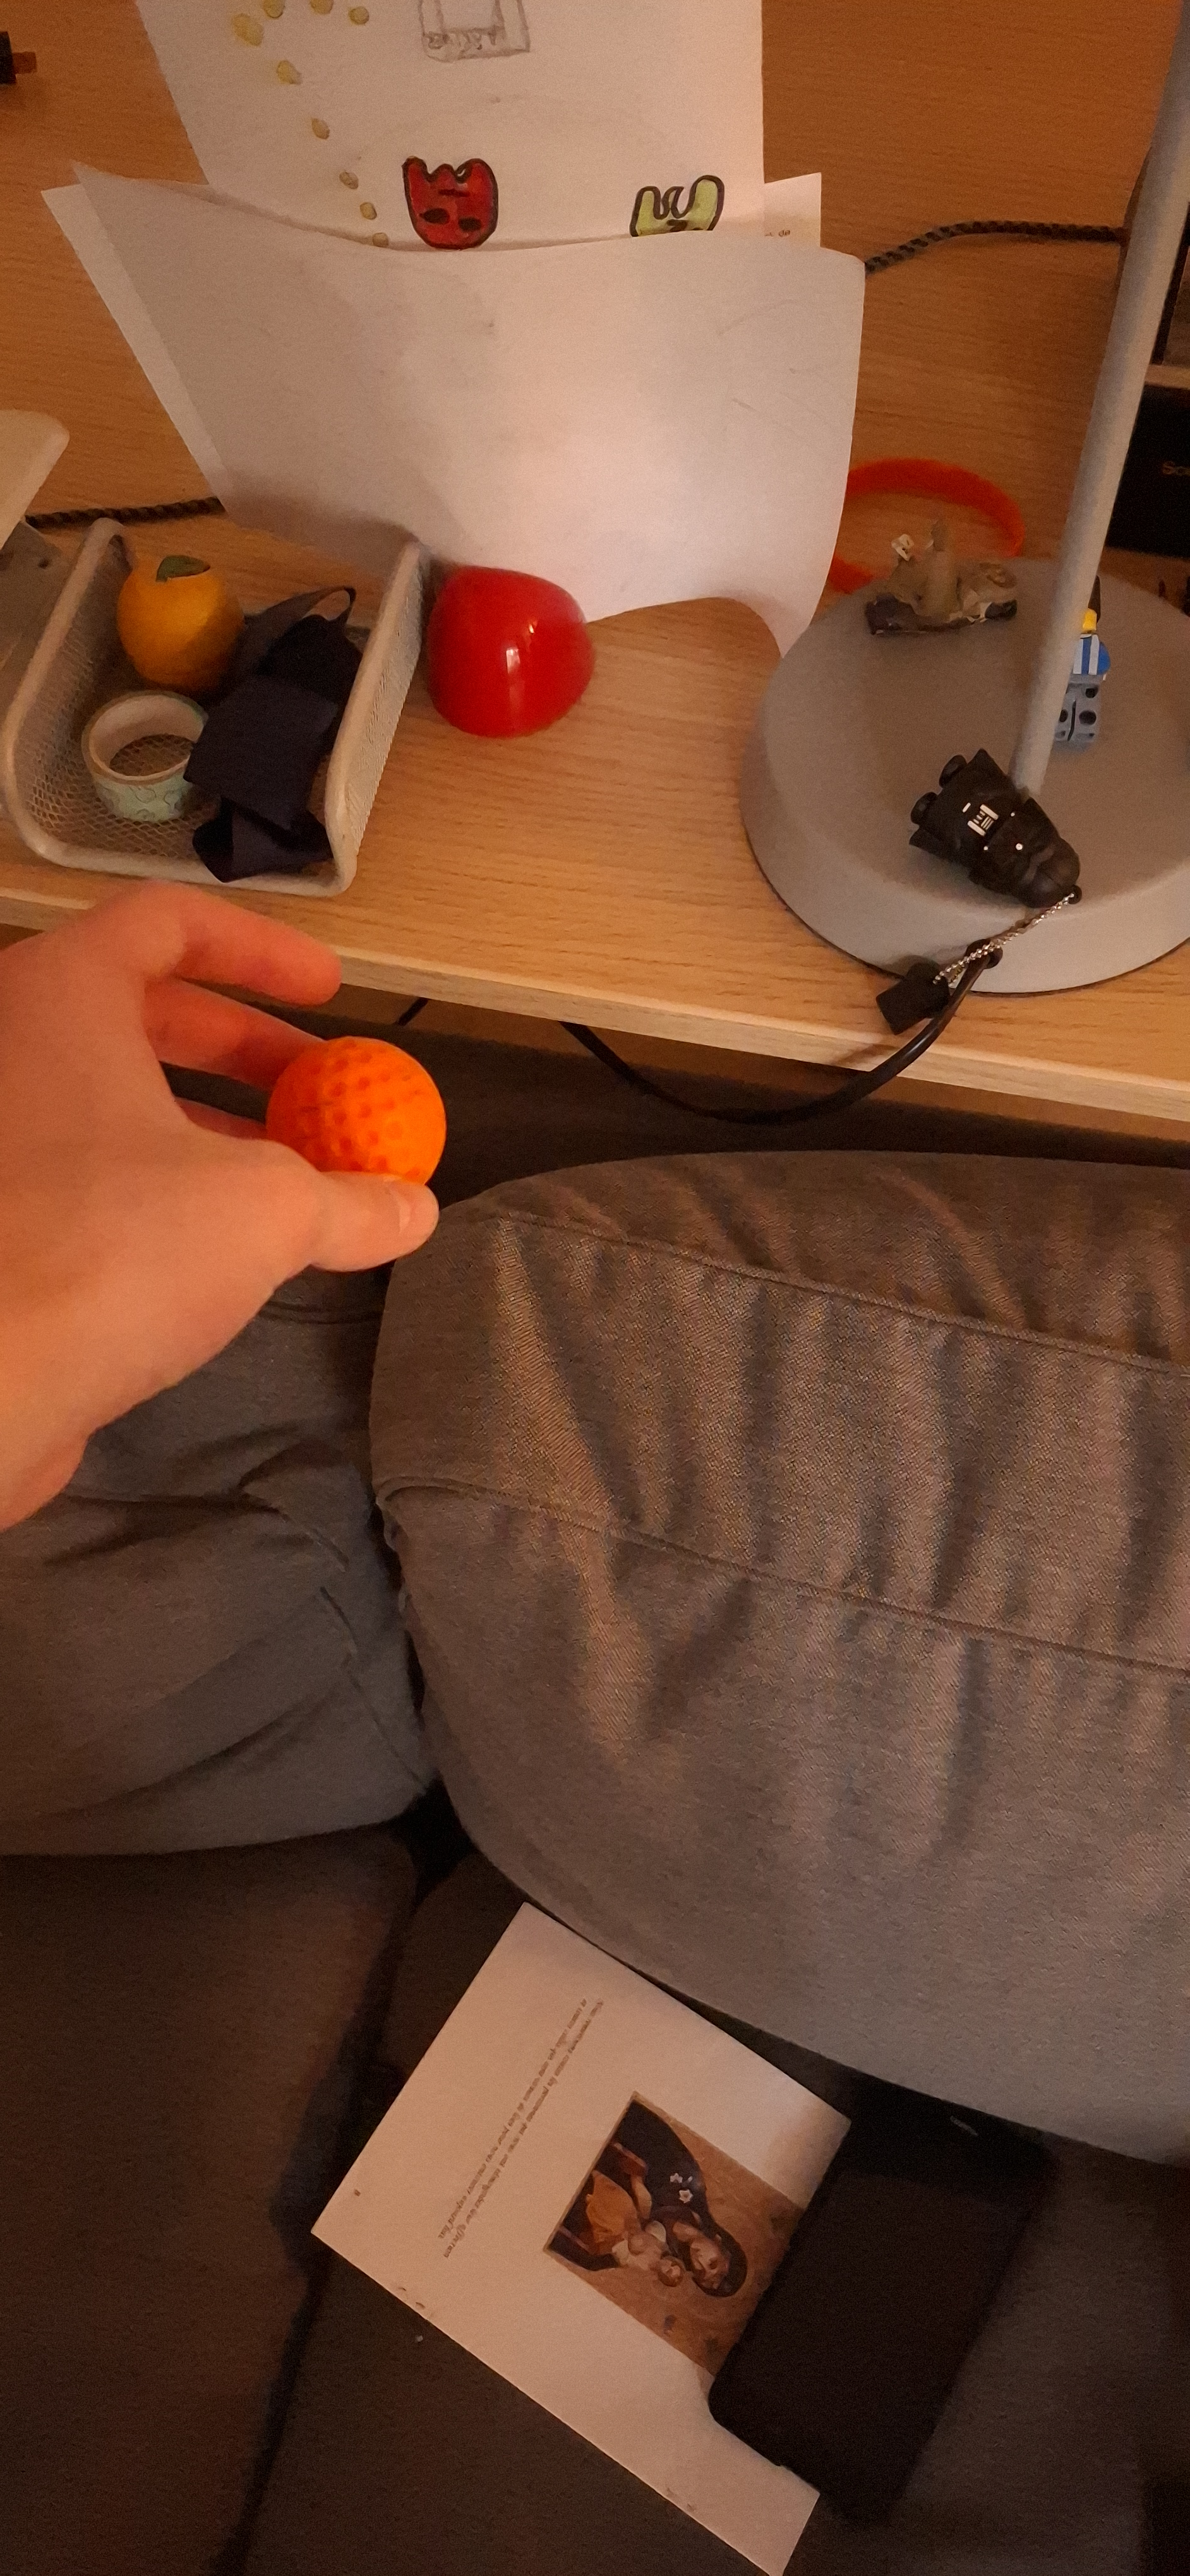ball: (478, 1607, 560, 2001)
